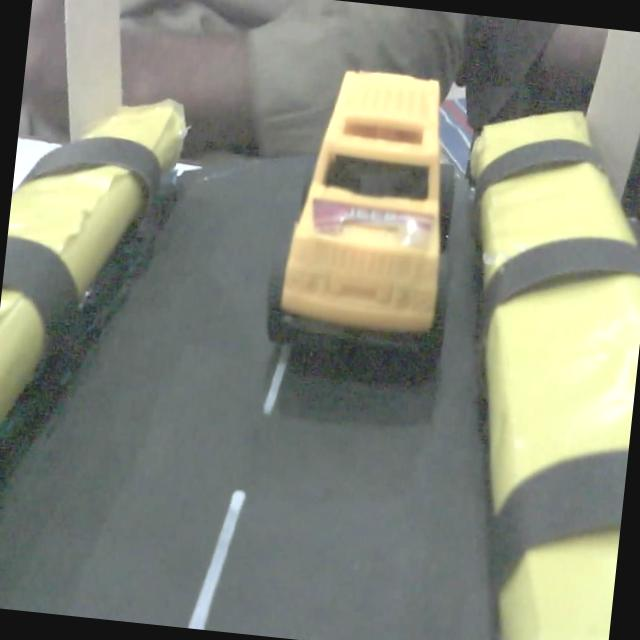OneCar: (251, 50, 486, 372)
